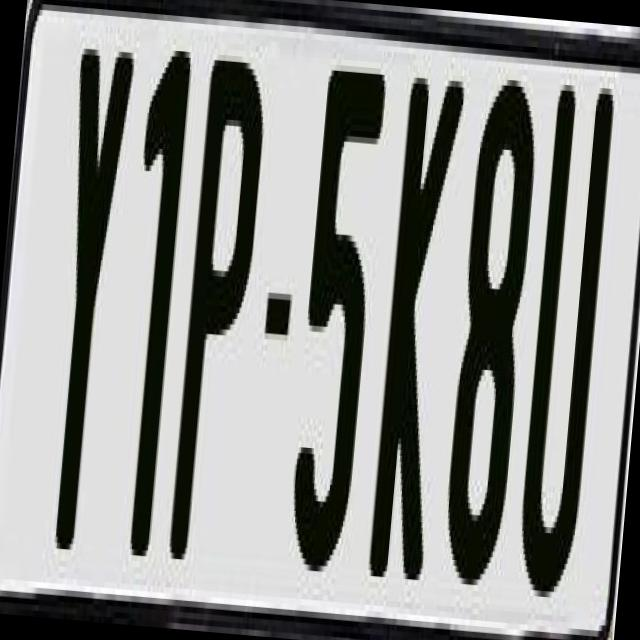1: (106, 36, 200, 568)
5: (281, 64, 393, 592)
8: (438, 71, 548, 587)
K: (362, 76, 462, 615)
P: (168, 48, 276, 558)
U: (512, 72, 616, 588)
Y: (36, 29, 132, 534)
